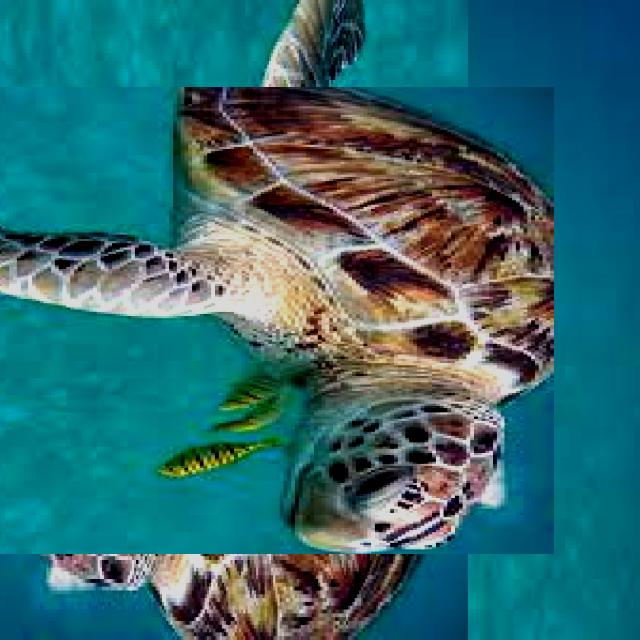Sea turtle: (0, 43, 511, 597)
